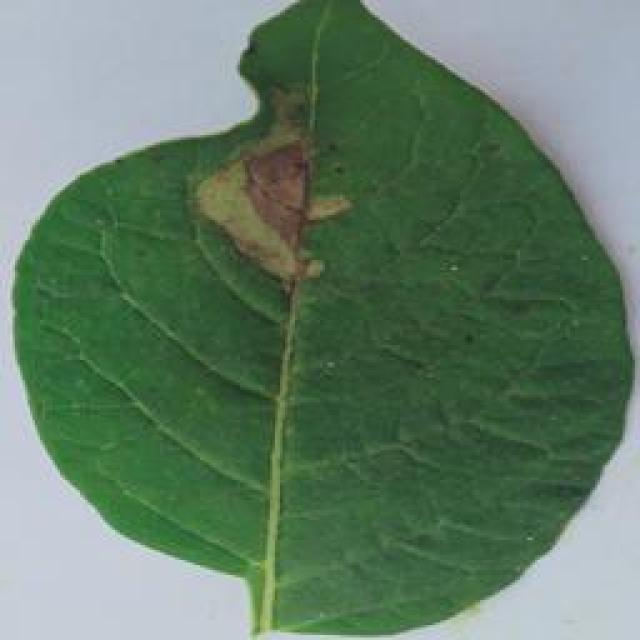Potato_Late_Blight: (0, 0, 638, 617)
